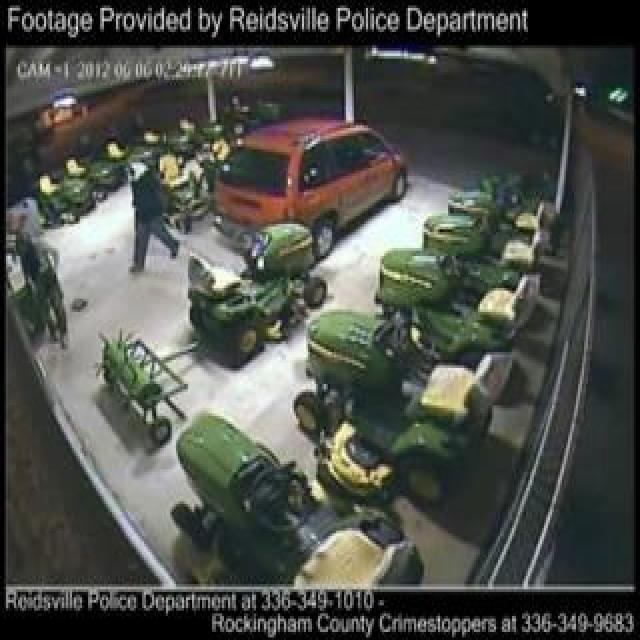thief: (13, 212, 80, 345), (117, 147, 167, 215)
